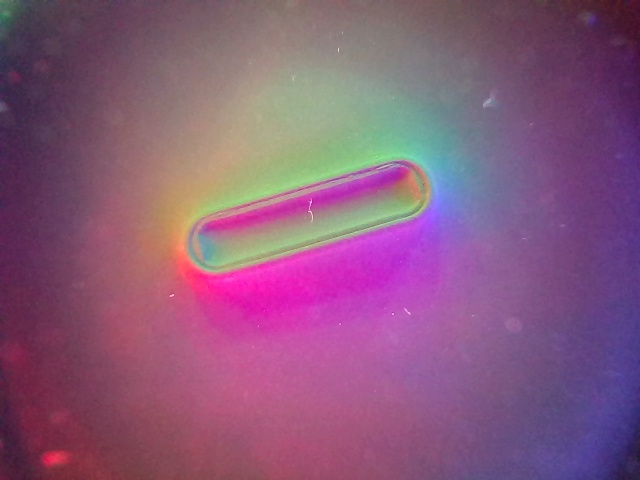contact: (187, 160, 430, 276)
